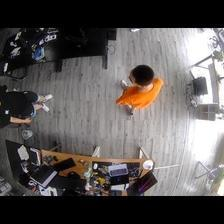normal: (114, 64, 163, 115)
